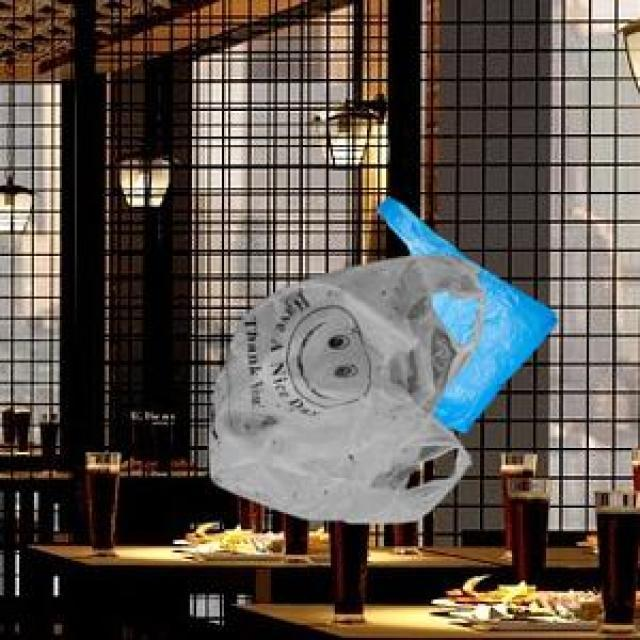waste: (210, 199, 555, 522)
